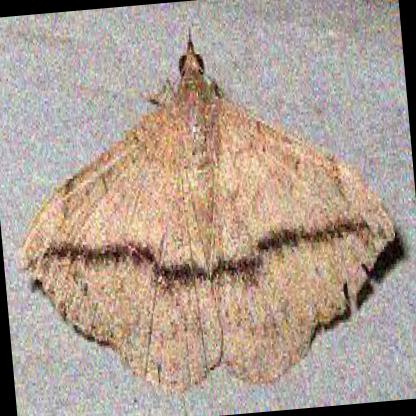Leaf Webber: (23, 38, 398, 398)
